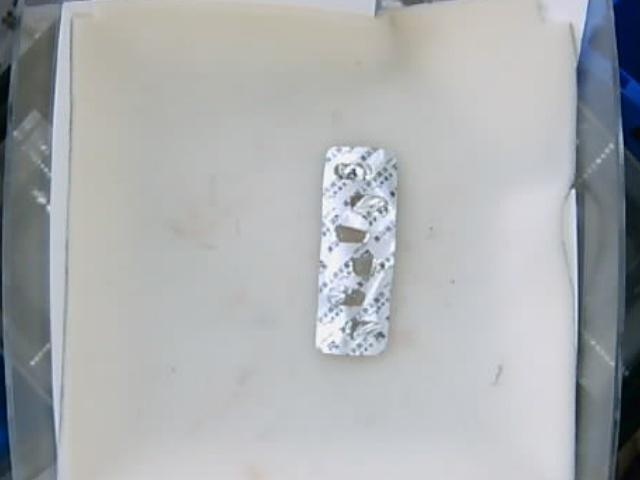Medicine: (319, 143, 392, 357)
